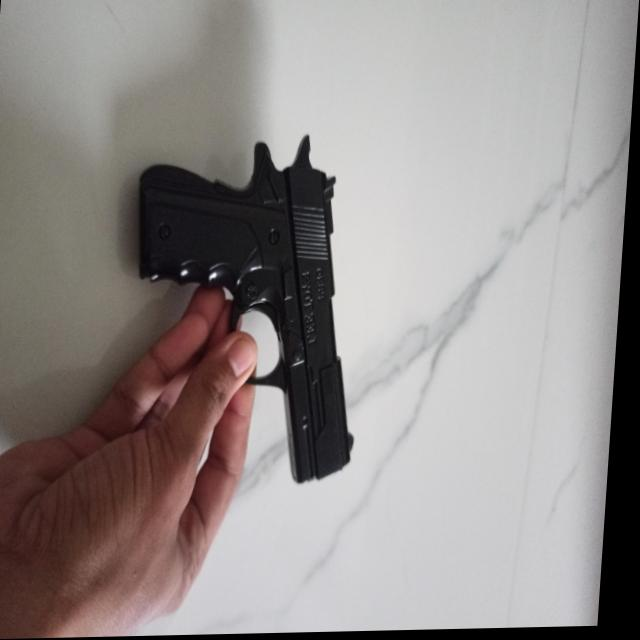handgun: (121, 137, 377, 493)
